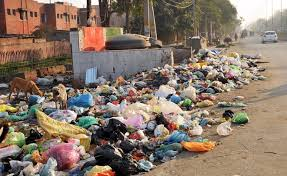garbage: (2, 111, 187, 176), (72, 80, 224, 155), (151, 66, 208, 136), (190, 56, 256, 83)
